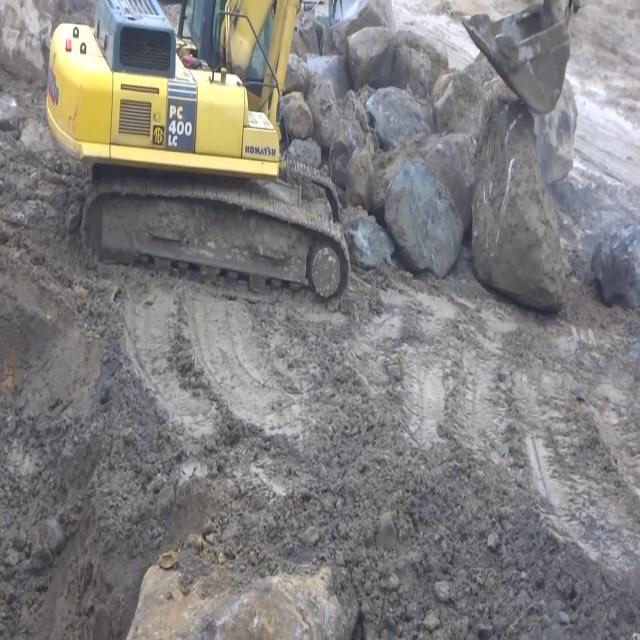excavator: (38, 1, 575, 318)
